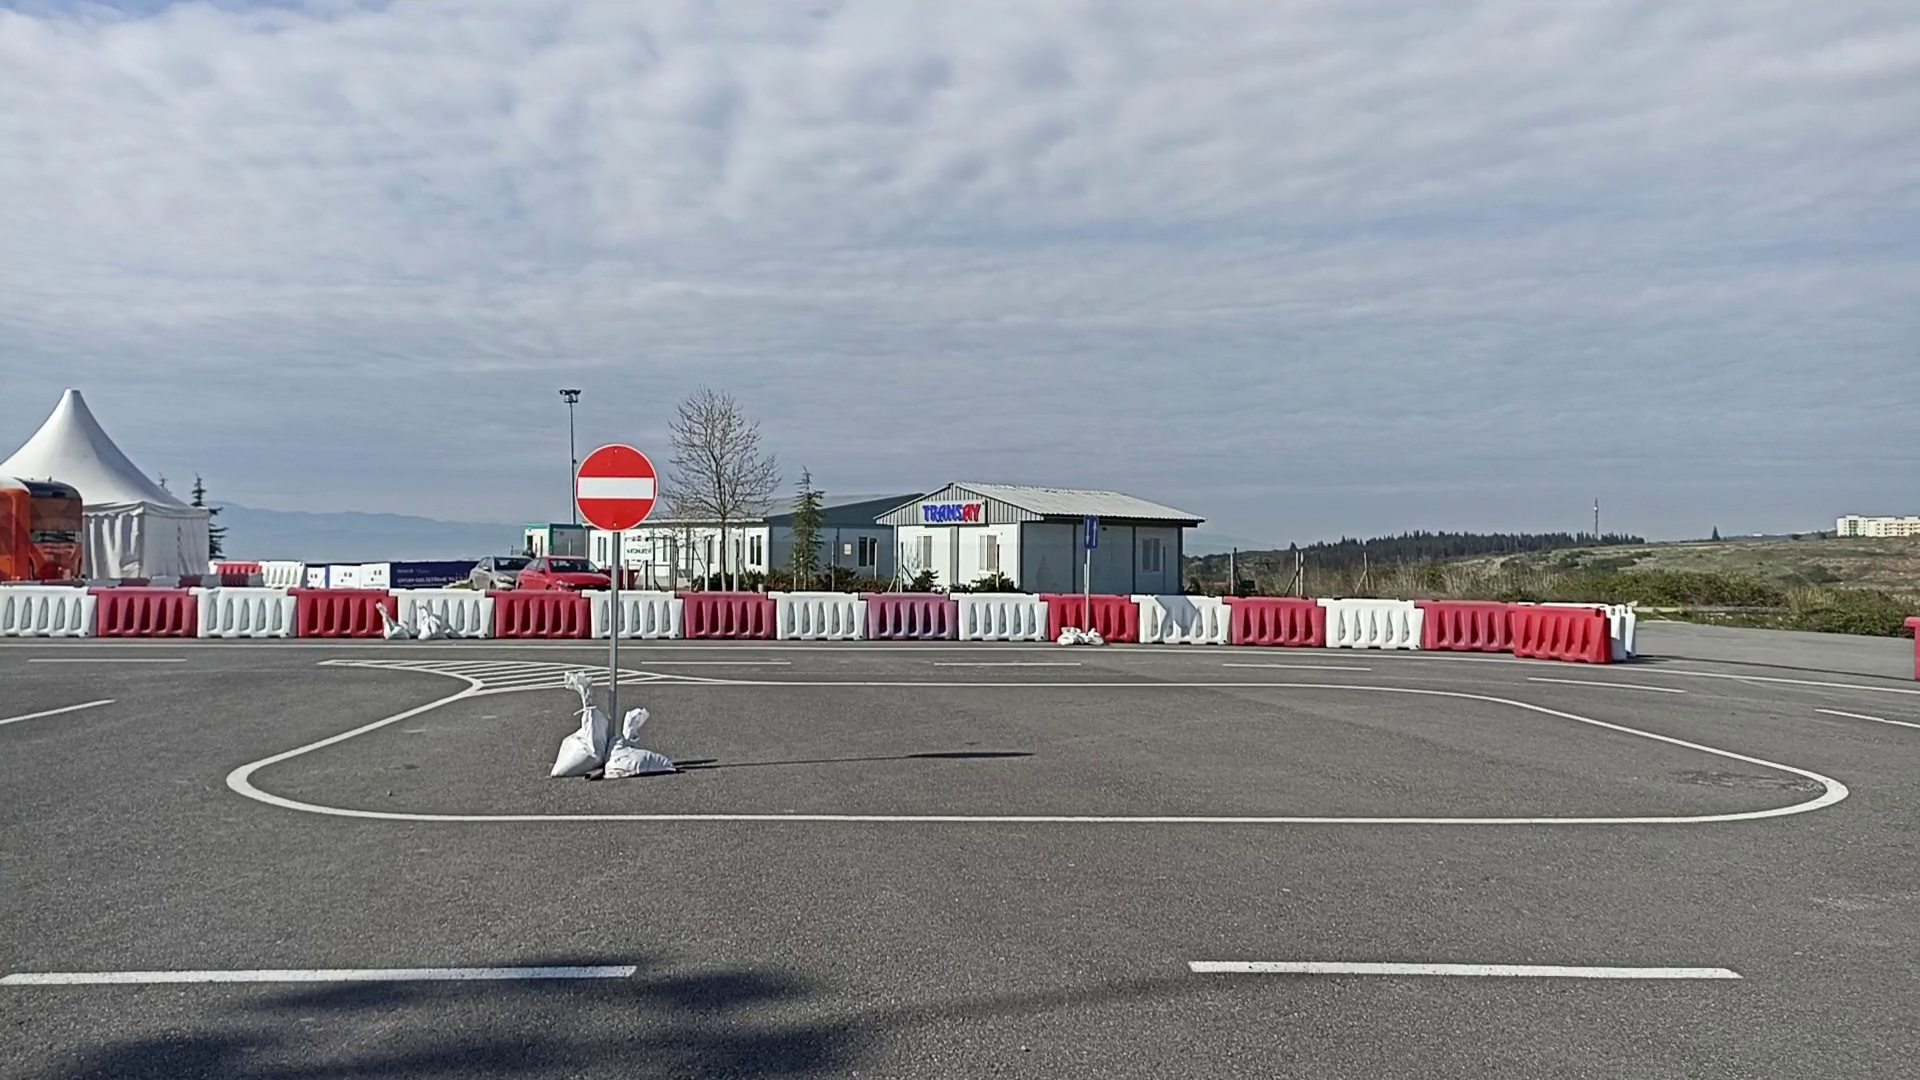noentryway: (572, 442, 659, 531)
